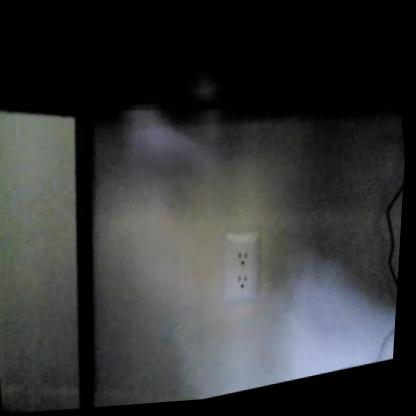OUTLET: (214, 225, 269, 309)
